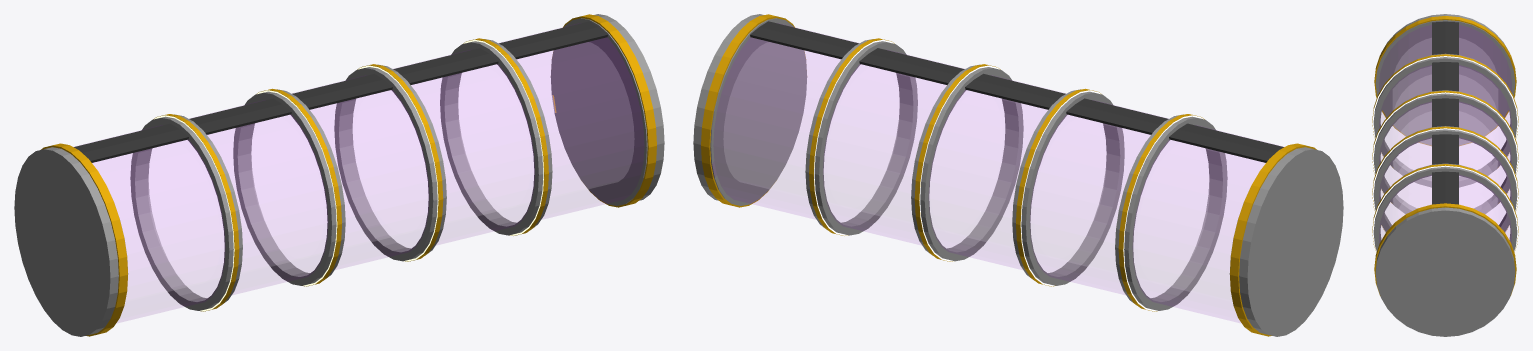
Rendered from EnergyBar.glb.
3 views of the same model, side by side, from view 1: azimuth 30°, elevation 25°; view 2: azimuth 150°, elevation 25°; view 3: azimuth 270°, elevation 25° (orthographic). The views are drawn at different scales.
Parts seen in each view (by area): view 1: Structure, Barre1, Barre4, Barre5, Barre3, Barre2, Ligne, Ring3, Ring1, Ring4, Ring2; view 2: Structure, Barre1, Barre4, Barre5, Barre3, Barre2, Ligne, Ring3, Ring1, Ring4, Ring2; view 3: Structure, Ligne, Ring1, Ring2, Ring3, Ring4, Barre2, Barre3, Barre4, Barre1, Barre5.
Boxes of the visible parts, <box> form: Structure: <box>14,14,664,336</box>; Barre1: <box>93,143,219,301</box>; Barre4: <box>383,68,530,231</box>; Barre5: <box>487,42,633,206</box>; Barre3: <box>280,93,426,256</box>; Barre2: <box>178,118,323,281</box>; Ligne: <box>74,21,607,162</box>; Ring3: <box>334,64,446,261</box>; Ring1: <box>130,114,242,311</box>; Ring4: <box>440,38,552,235</box>; Ring2: <box>233,88,345,286</box>; Structure: <box>693,14,1343,336</box>; Barre1: <box>1138,143,1264,301</box>; Barre4: <box>827,68,974,231</box>; Barre5: <box>724,42,870,206</box>; Barre3: <box>931,93,1077,256</box>; Barre2: <box>1034,118,1179,281</box>; Ligne: <box>750,21,1283,162</box>; Ring3: <box>911,64,1023,261</box>; Ring1: <box>1115,114,1227,311</box>; Ring4: <box>805,38,917,235</box>; Ring2: <box>1012,88,1124,286</box>; Structure: <box>1374,14,1516,336</box>; Ligne: <box>1432,21,1458,204</box>; Ring1: <box>1372,53,1518,187</box>; Ring2: <box>1372,90,1518,213</box>; Ring3: <box>1372,126,1518,232</box>; Ring4: <box>1372,163,1518,252</box>; Barre2: <box>1393,75,1497,145</box>; Barre3: <box>1393,112,1497,182</box>; Barre4: <box>1393,148,1497,220</box>; Barre1: <box>1393,38,1497,109</box>; Barre5: <box>1394,185,1496,221</box>.
Bounding box in the file's own units: 3.85 × 1.21 × 1.21.
